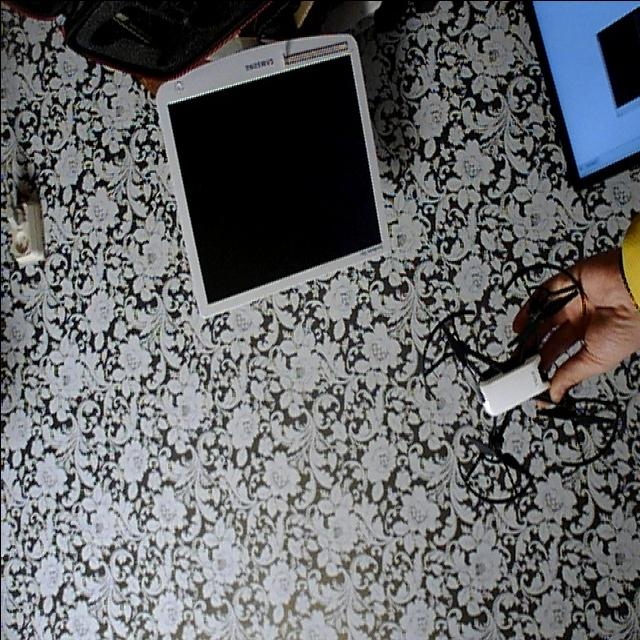drone: (404, 224, 624, 510)
